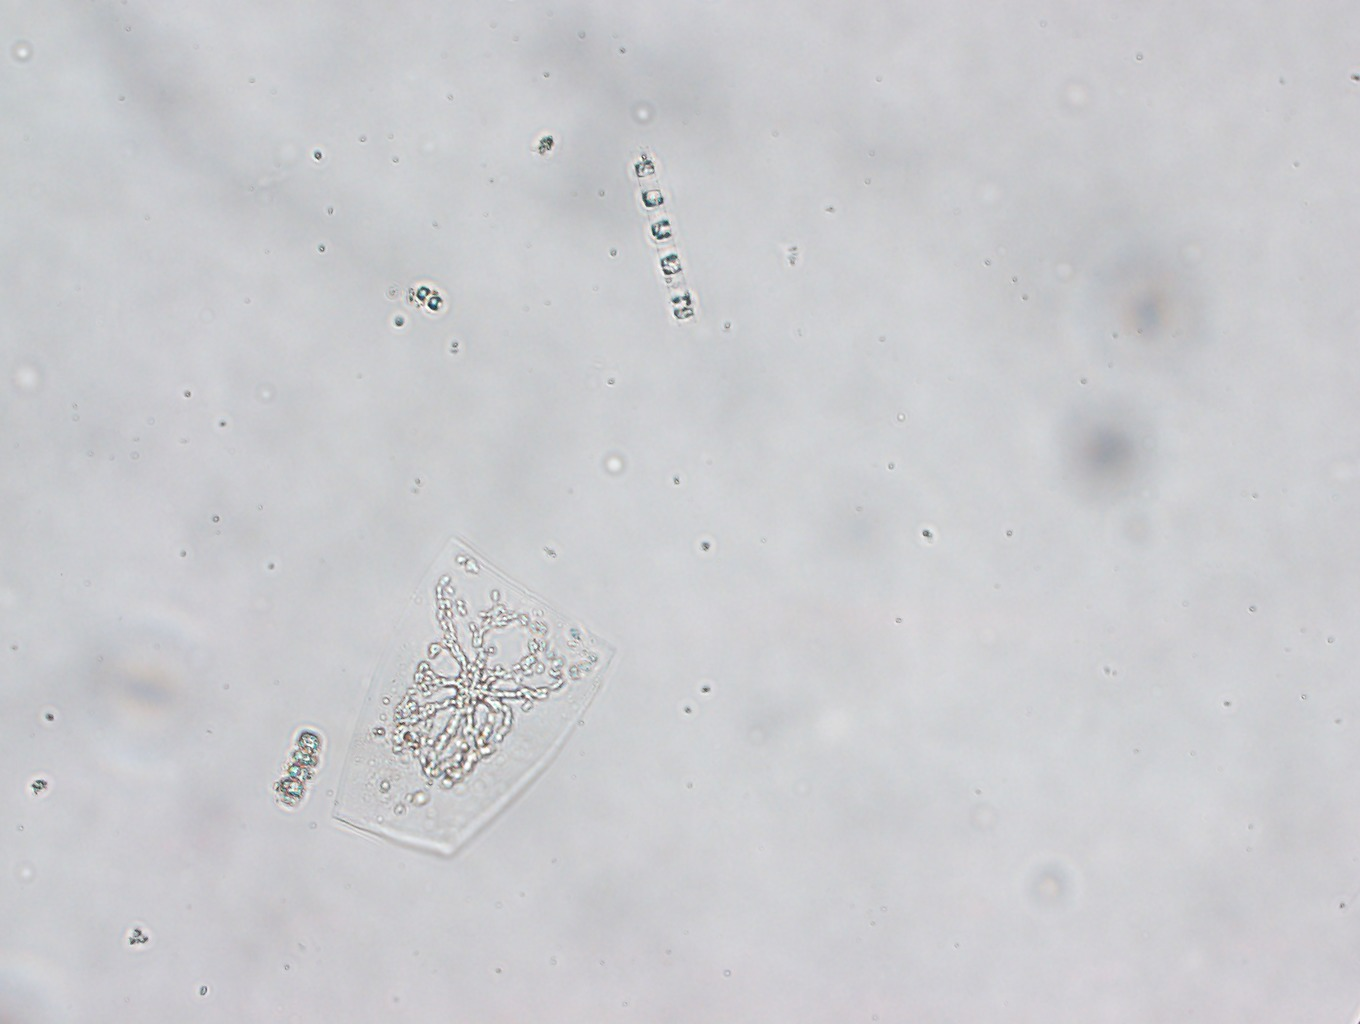helicotheca: (330, 535, 615, 856)
skeletonema: (632, 159, 696, 324), (280, 728, 320, 806)
